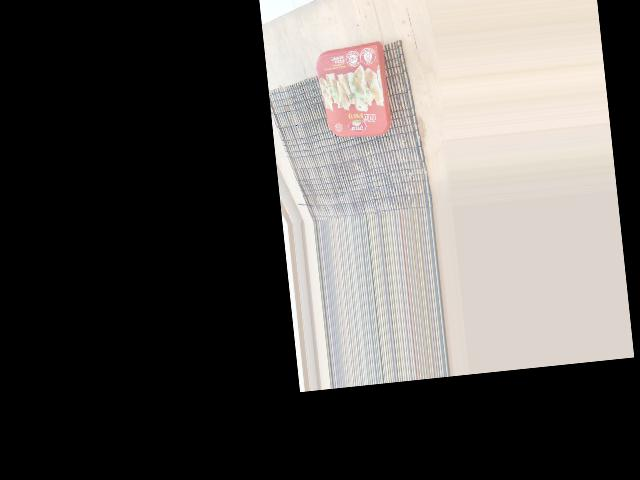cheese: (312, 22, 397, 145)
